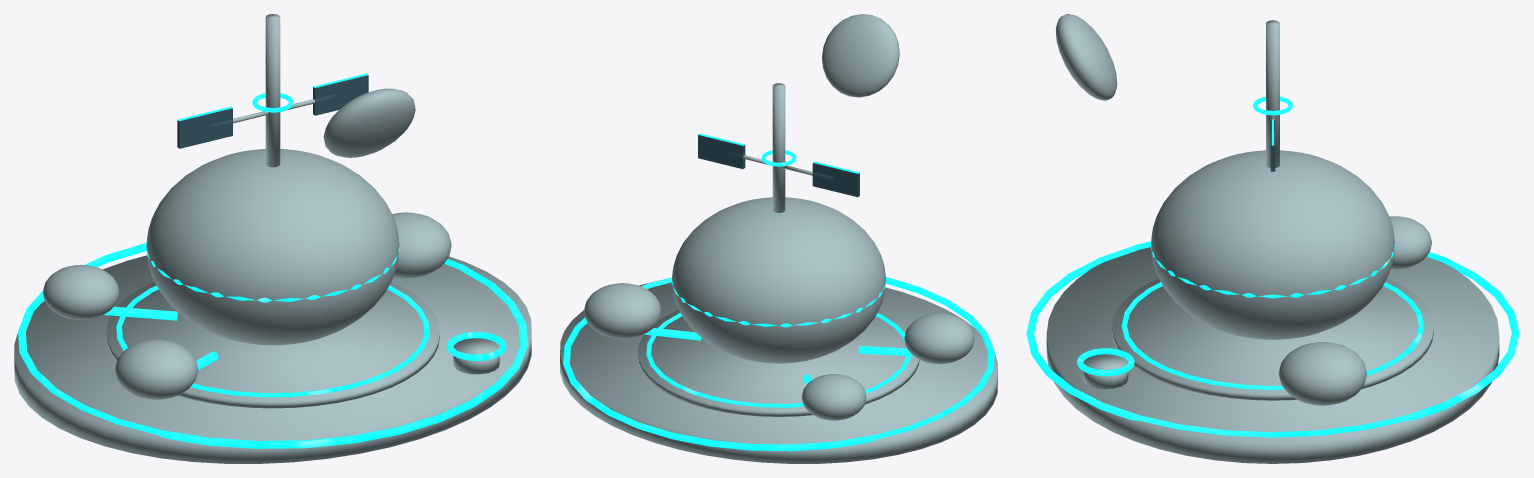
File: azure_operations_hub.glb
3 views of the same model, side by side, from view 1: azimuth 30°, elevation 25°; view 2: azimuth 150°, elevation 25°; view 3: azimuth 270°, elevation 25° (orthographic). The views are drawn at different scales.
Visible parts, largest first — view 1: AzureOperationsHub; view 2: AzureOperationsHub; view 3: AzureOperationsHub.
Part boxes in pixels (x1,y1,x2,y2): AzureOperationsHub: [14, 14, 531, 463]; AzureOperationsHub: [560, 14, 997, 463]; AzureOperationsHub: [1026, 14, 1519, 463].
Size of the model in its own units: 6.4 by 4.62 by 6.14.
Materials: 3 (3 with a texture image).
